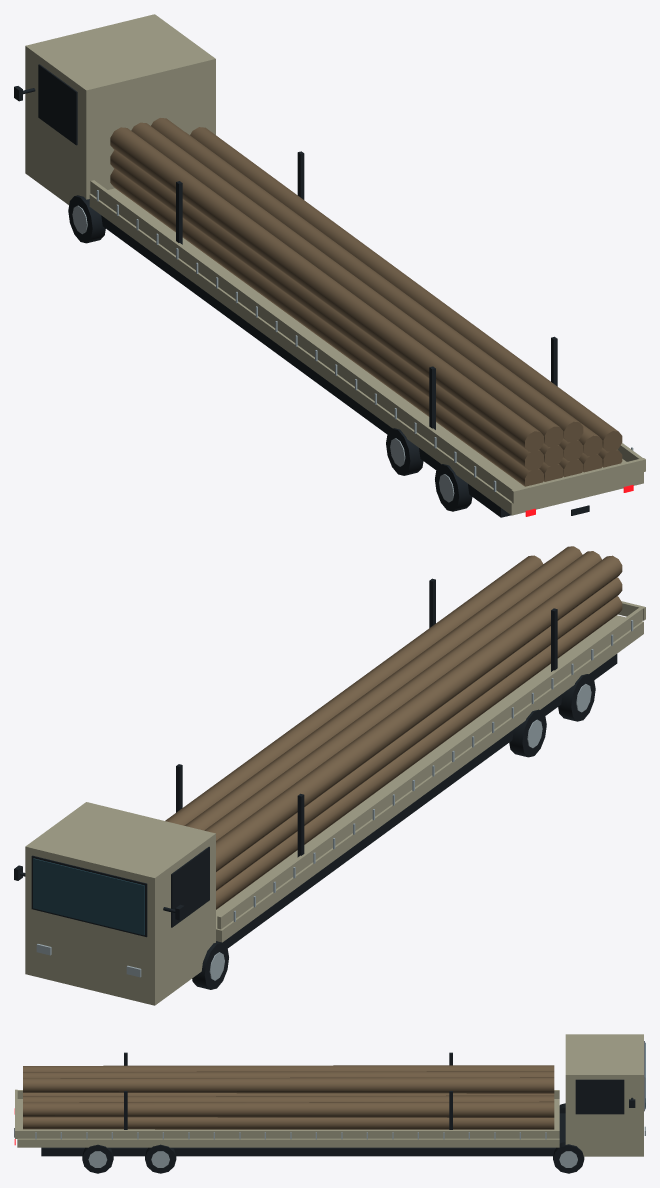
File: traffic-logs.glb
The picture shows the model from 3 angles, top to bottom: view 1: azimuth 30°, elevation 25°; view 2: azimuth 150°, elevation 25°; view 3: azimuth 270°, elevation 25°; orthographic projection. The views are drawn at different scales.
Parts seen in each view (by area): view 1: lod_accent, lod_body, lod_dark, lod_metal; view 2: lod_accent, lod_body, lod_dark, lod_glass, lod_metal; view 3: lod_accent, lod_body, lod_dark, lod_metal.
Boxes of the visible parts, left/top/right/bottom form: lod_accent: left=110, top=118, right=622, bottom=486; lod_body: left=25, top=14, right=645, bottom=515; lod_dark: left=14, top=64, right=589, bottom=517; lod_metal: left=72, top=190, right=633, bottom=502; lod_accent: left=165, top=546, right=622, bottom=909; lod_body: left=25, top=601, right=645, bottom=1005; lod_dark: left=14, top=578, right=617, bottom=989; lod_glass: left=33, top=858, right=144, bottom=935; lod_metal: left=36, top=620, right=633, bottom=980; lod_accent: left=23, top=1065, right=554, bottom=1129; lod_body: left=15, top=1034, right=643, bottom=1156; lod_dark: left=14, top=1041, right=644, bottom=1173; lod_metal: left=35, top=1098, right=645, bottom=1167.
Size of the model in its own units: 3.13 by 2.75 by 16.11.
